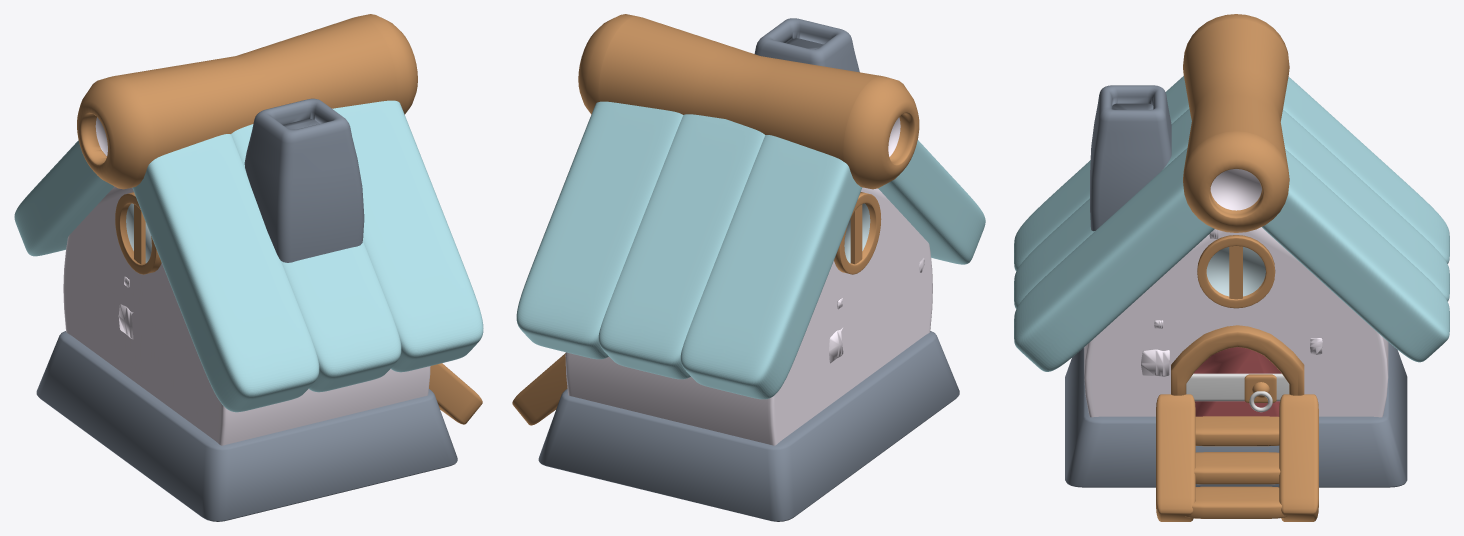
File: Haus.001-Blau.fbx
3 renders of one model, left to right at view 1: azimuth 30°, elevation 25°; view 2: azimuth 150°, elevation 25°; view 3: azimuth 270°, elevation 25°, orthographic. The views are drawn at different scales.
Visible parts, largest first — view 1: Haus1; view 2: Haus1; view 3: Haus1.
Boxes of the visible parts, bbox=[...] form: Haus1: bbox=[14, 14, 483, 521]; Haus1: bbox=[512, 14, 985, 521]; Haus1: bbox=[1014, 14, 1449, 521].
Bounding box in the file's own units: 297 × 317 × 342.
